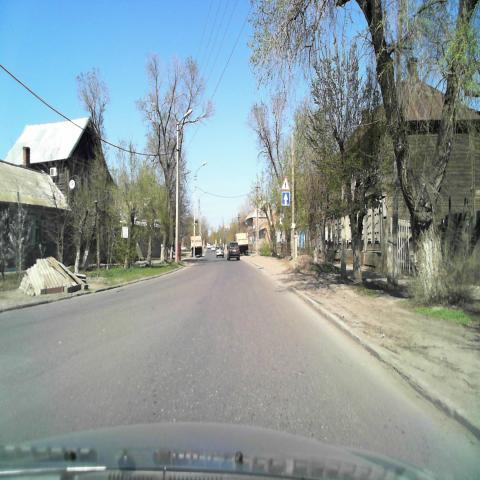2_3_3: (280, 176, 290, 190)
5_5: (281, 190, 290, 206)
